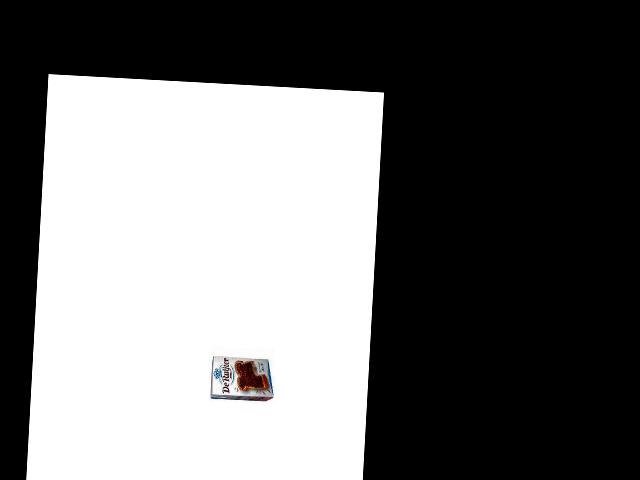chocolate: (206, 350, 274, 407)
